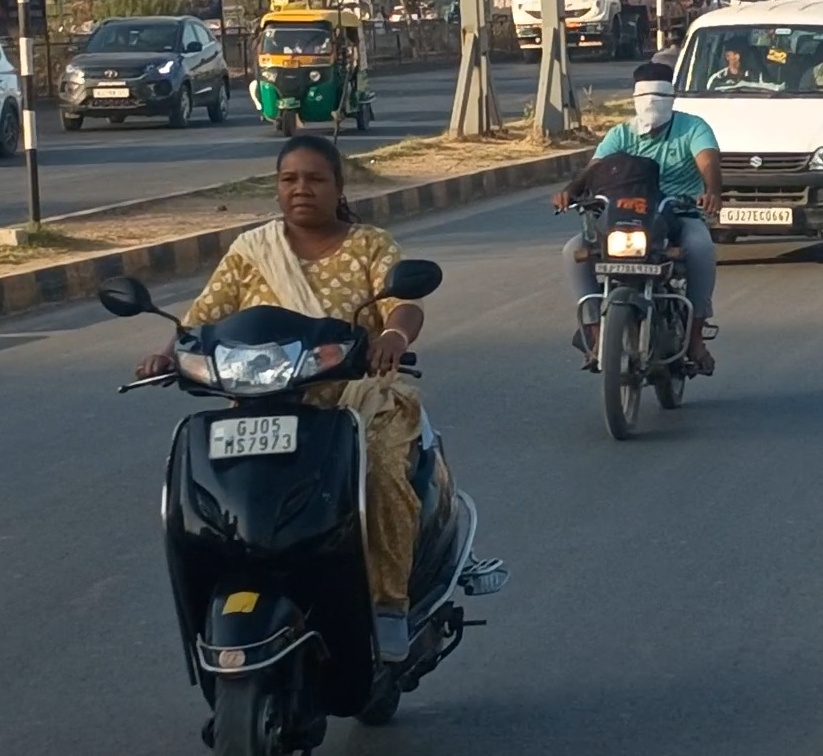BikeWithRider: (85, 128, 517, 756), (543, 55, 733, 447)
NoHelmet: (262, 128, 359, 235), (621, 57, 685, 133)
